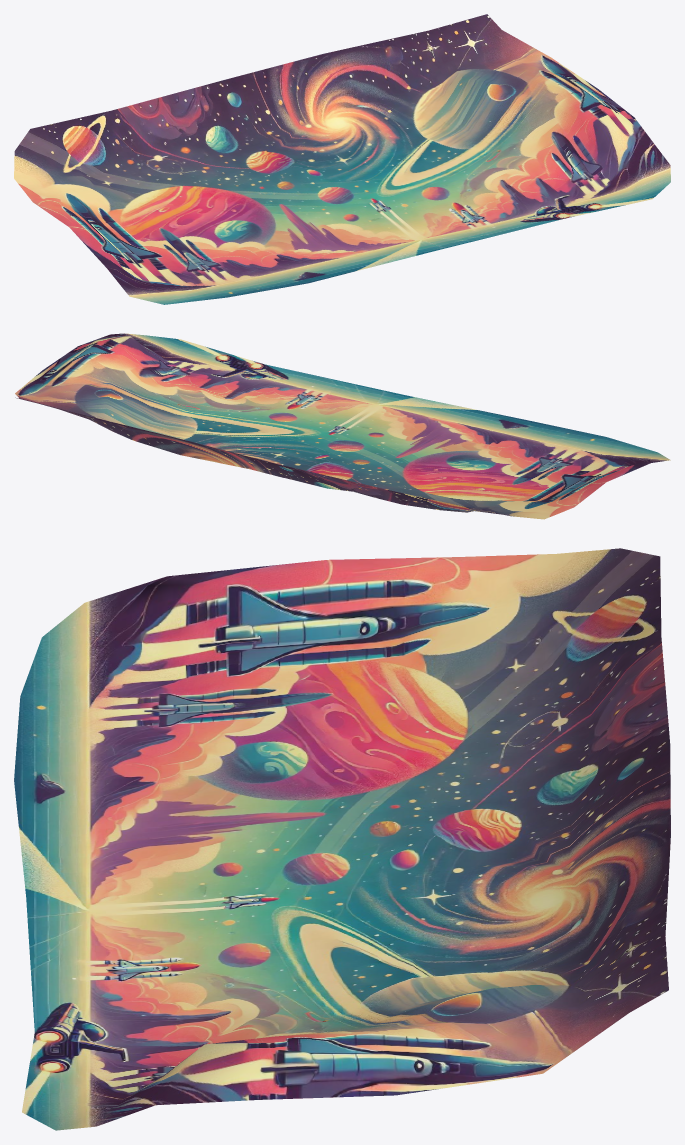
File: Background_fbx_optimized_textured.fbx
The picture shows the model from 3 angles, top to bottom: view 1: azimuth 30°, elevation 25°; view 2: azimuth 150°, elevation 25°; view 3: azimuth 270°, elevation 25°; orthographic projection. The views are drawn at different scales.
Visible parts, largest first — view 1: DepthMapObj; view 2: DepthMapObj; view 3: DepthMapObj.
Boxes of the visible parts, x1,y1,x2,y2 form: DepthMapObj: [14, 14, 670, 304]; DepthMapObj: [15, 333, 670, 519]; DepthMapObj: [14, 548, 670, 1130].
Size of the model in its own units: 42994 by 4910 by 22822.
Materials: 1 (1 with a texture image).
